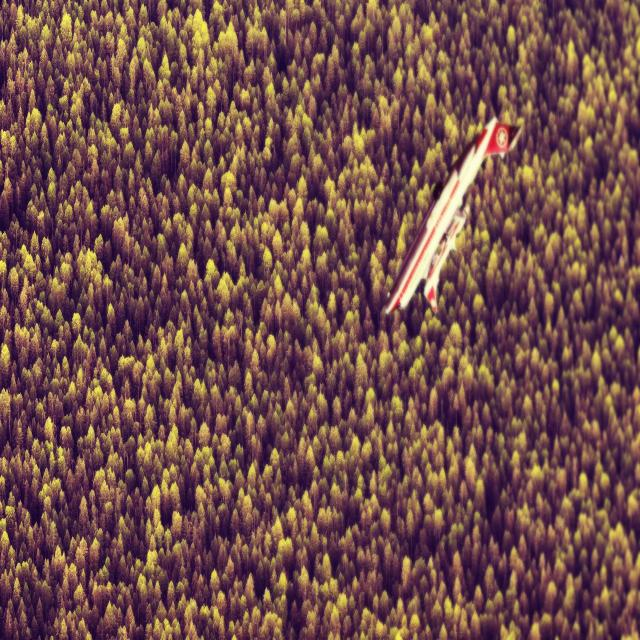airplane: (382, 114, 522, 317)
